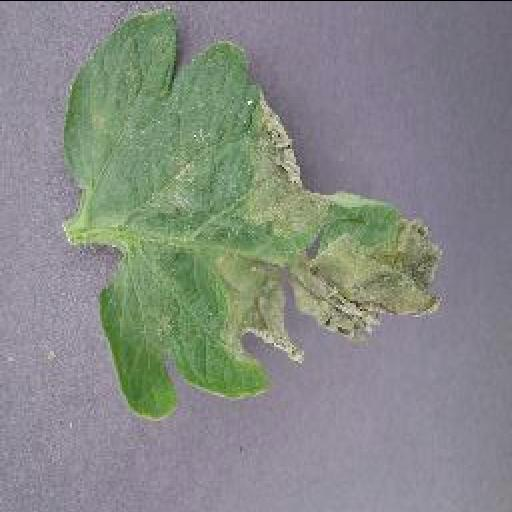disease_tomato: (61, 4, 451, 420)
